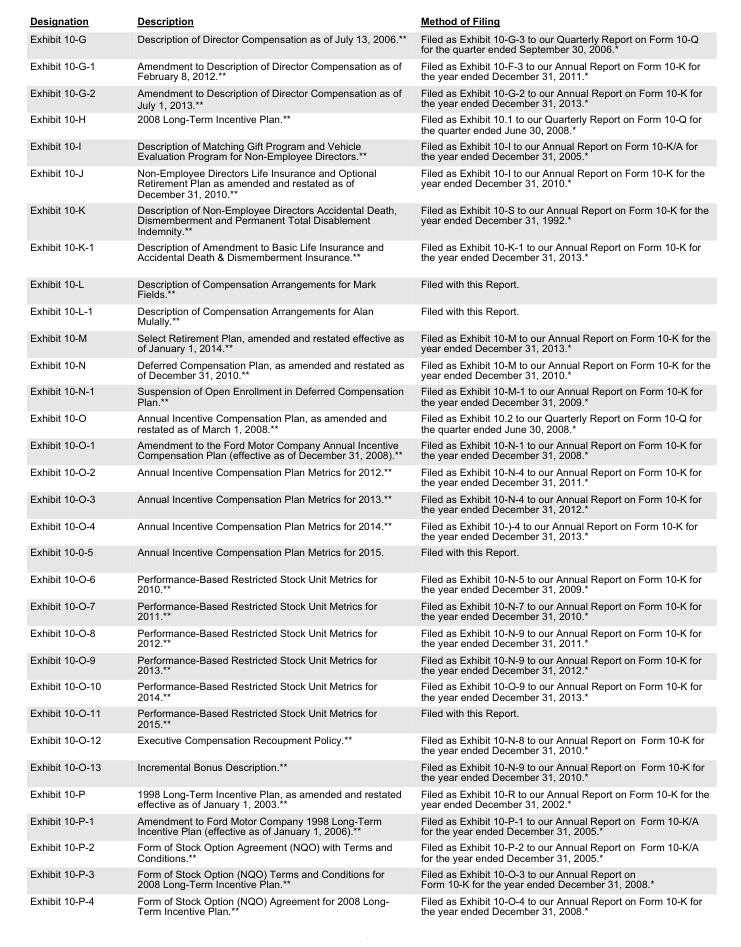table: (29, 14, 709, 916)
table column: (412, 14, 709, 916), (118, 14, 412, 916), (29, 14, 118, 916)
table column header: (29, 14, 709, 29)
table row: (29, 164, 709, 201), (29, 201, 709, 238), (29, 238, 709, 270), (29, 270, 709, 302), (29, 565, 709, 597), (29, 83, 709, 111), (29, 29, 709, 56), (29, 56, 709, 83), (29, 137, 709, 164), (29, 328, 709, 355), (29, 355, 709, 382), (29, 382, 709, 409), (29, 409, 709, 436), (29, 436, 709, 463), (29, 489, 709, 516), (29, 516, 709, 543), (29, 597, 709, 624), (29, 650, 709, 677), (29, 677, 709, 704), (29, 704, 709, 731), (29, 731, 709, 758), (29, 784, 709, 811), (29, 811, 709, 838), (29, 838, 709, 865), (29, 865, 709, 892), (29, 111, 709, 137), (29, 302, 709, 328), (29, 463, 709, 489), (29, 624, 709, 650), (29, 758, 709, 784), (29, 892, 709, 916), (29, 543, 709, 565), (29, 14, 709, 29)
